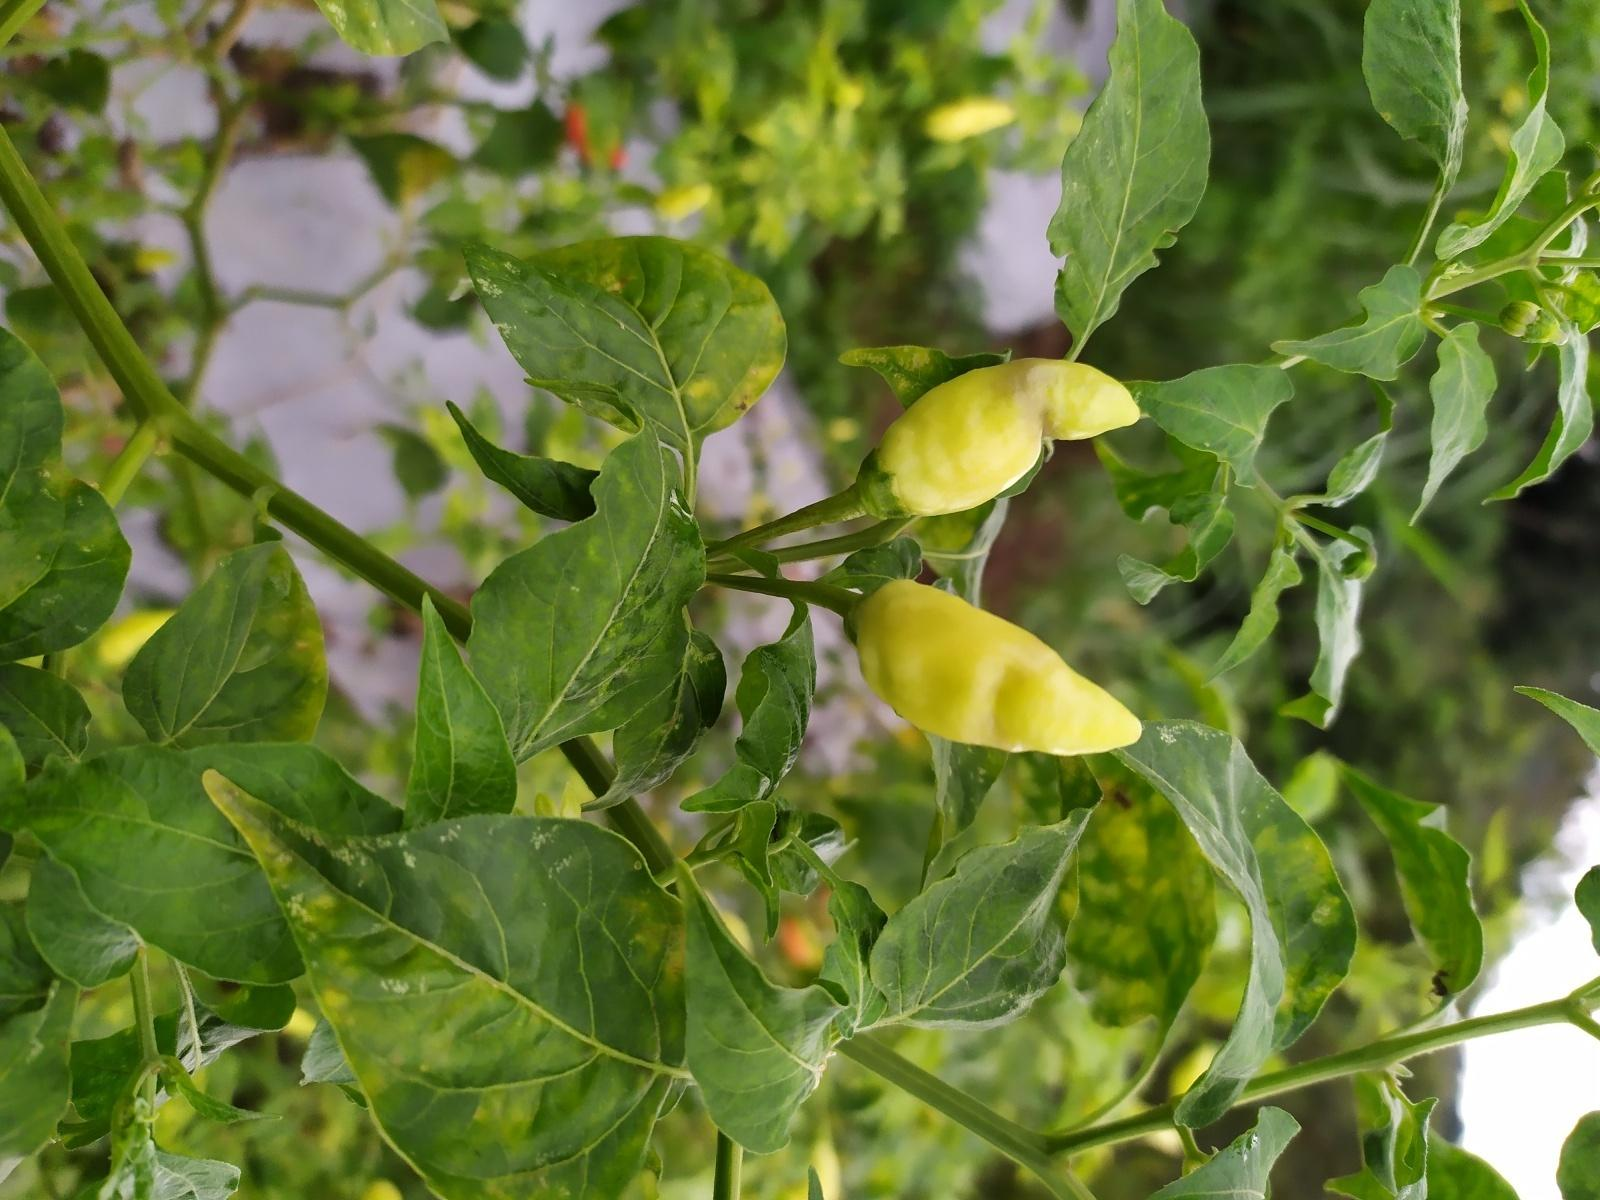cabai_normal: (853, 576, 1145, 755), (873, 358, 1141, 518)
